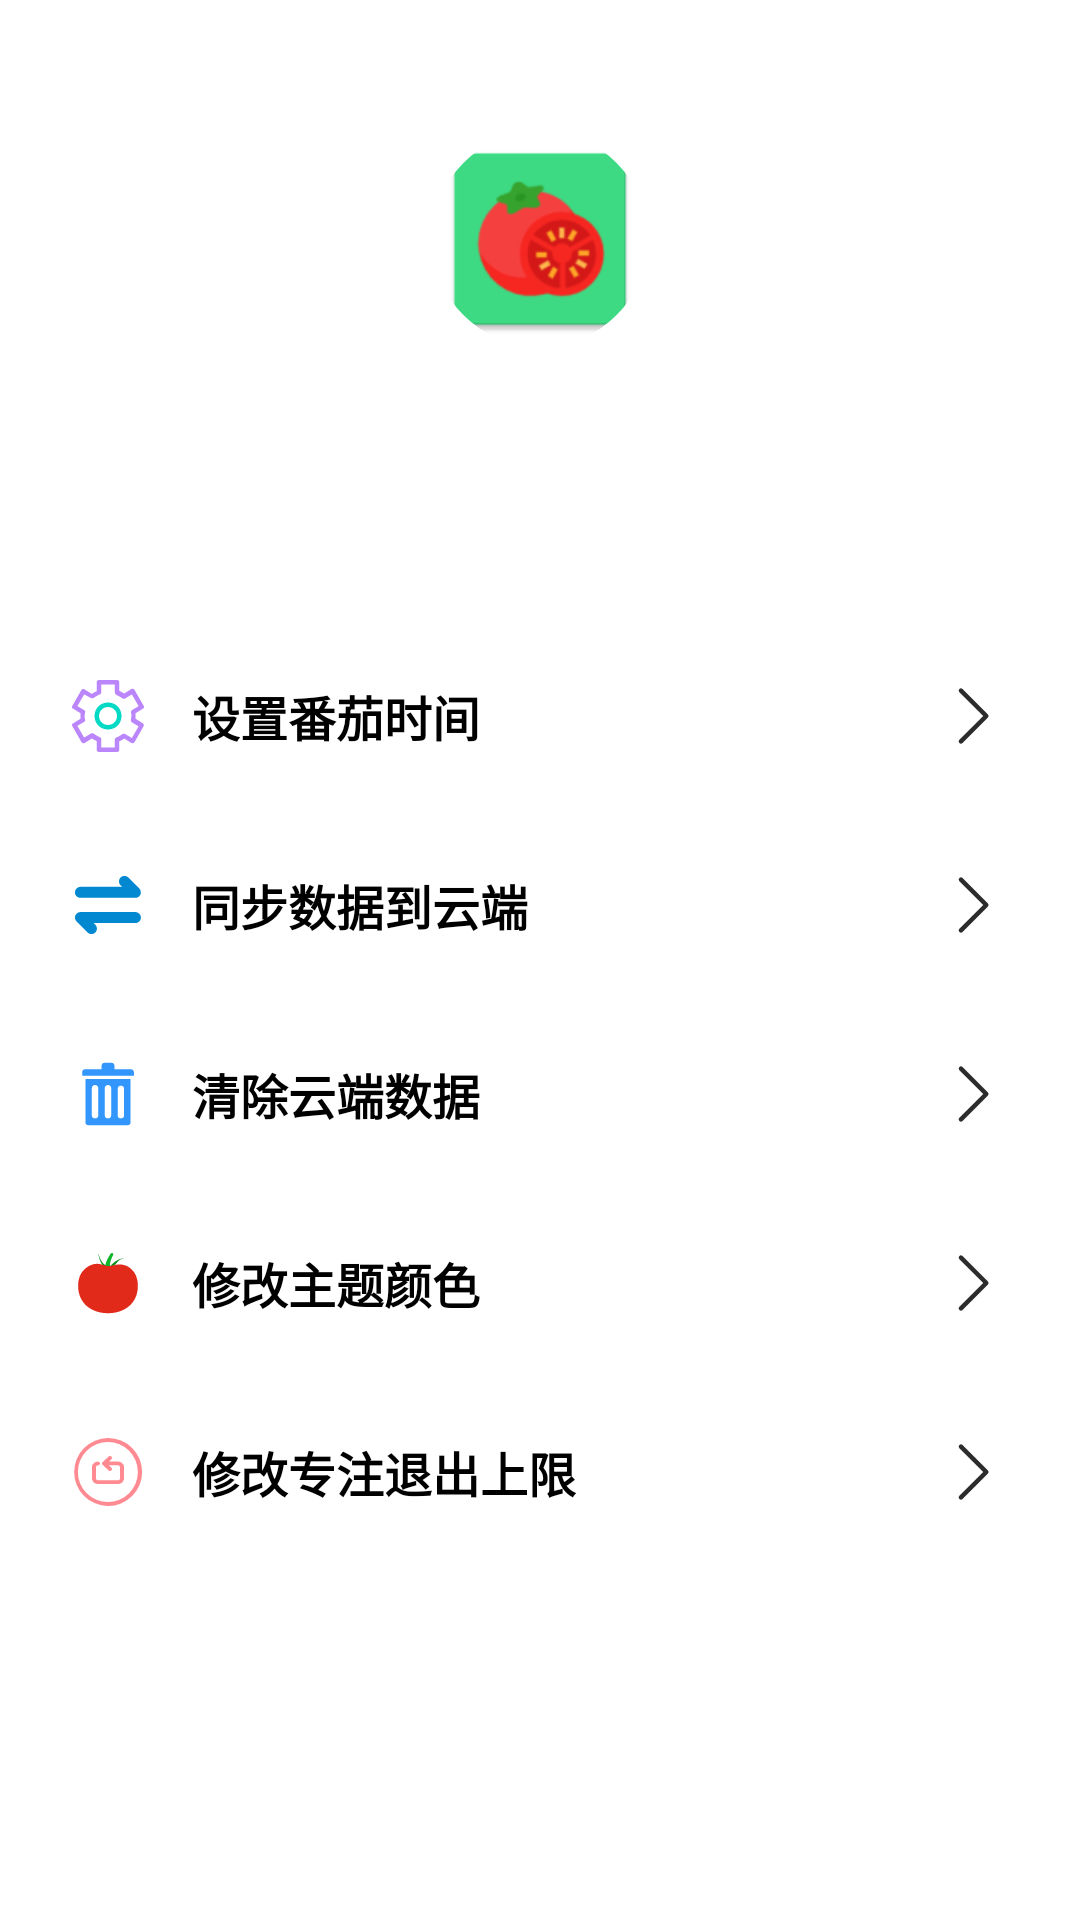

Icons on this 1080×1920 Android screen, each with its box as (x1, y1, x2, y2):
clear: (82, 1062, 134, 1126)
go forward: (958, 688, 989, 744), (958, 877, 989, 933), (958, 1066, 989, 1122), (958, 1255, 989, 1311), (958, 1444, 989, 1500)
setting: (72, 680, 144, 752)
tomato: (78, 1253, 138, 1314)
